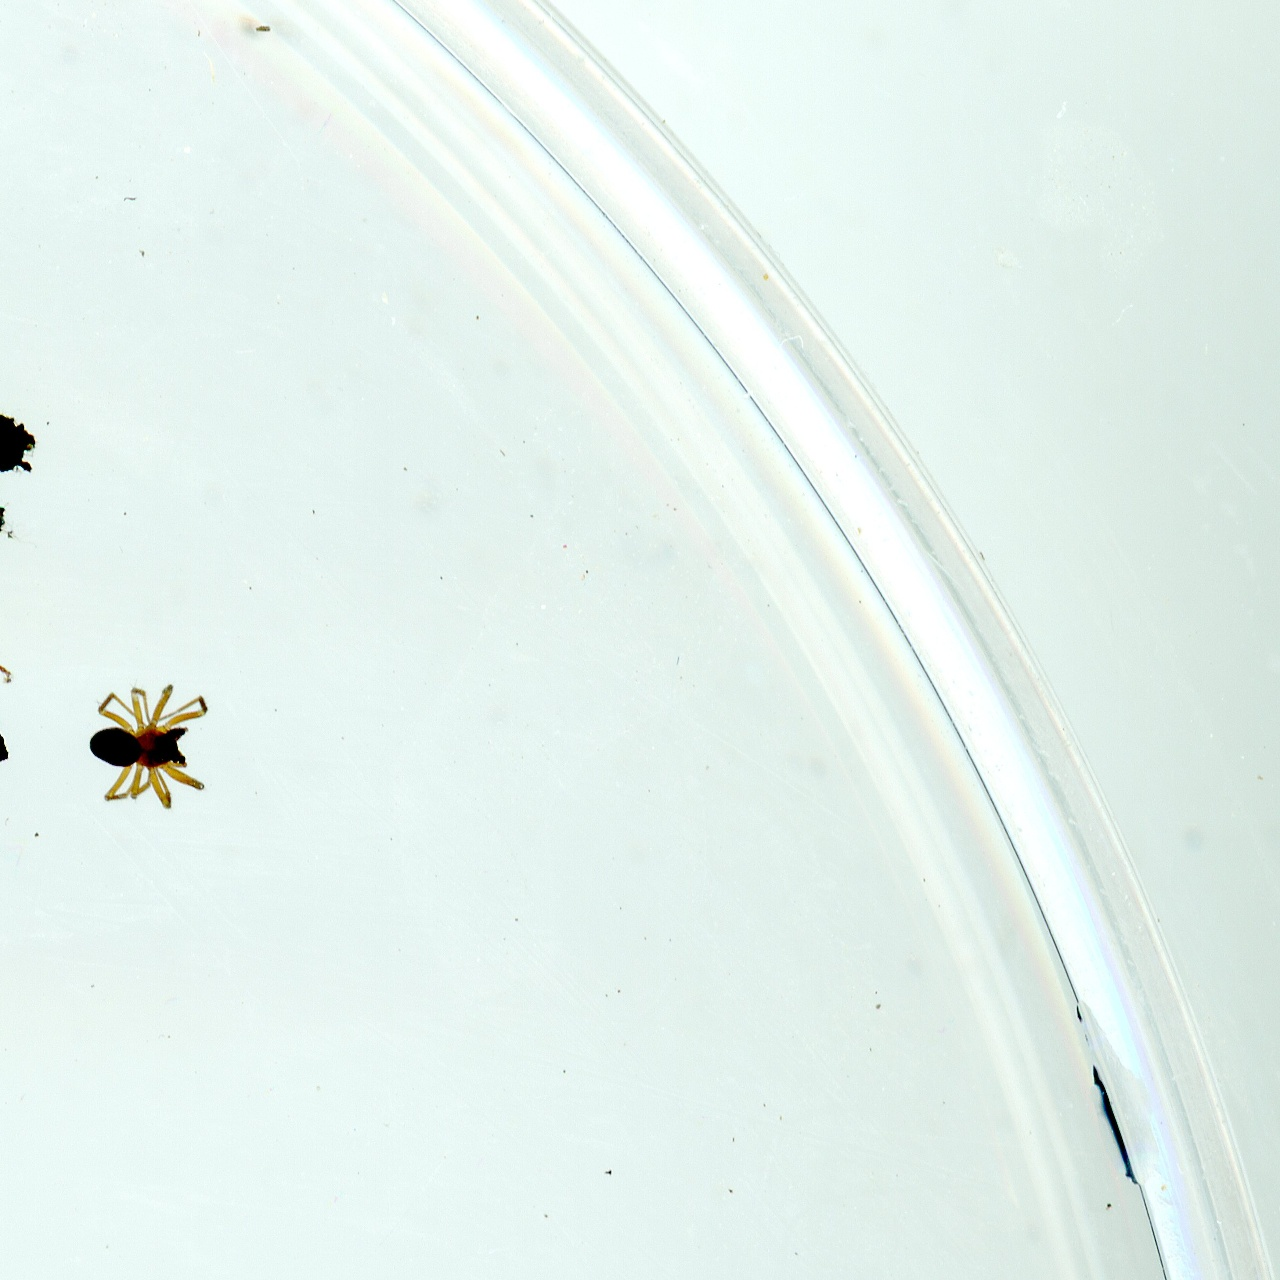arthropod: (82, 676, 213, 816)
